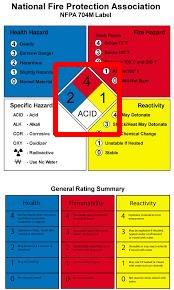nfpa: (55, 64, 119, 134)
